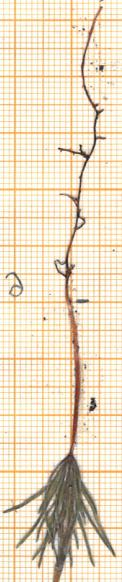flower: (0, 451, 122, 582)
root: (49, 4, 115, 301)
stem: (58, 299, 90, 454)
